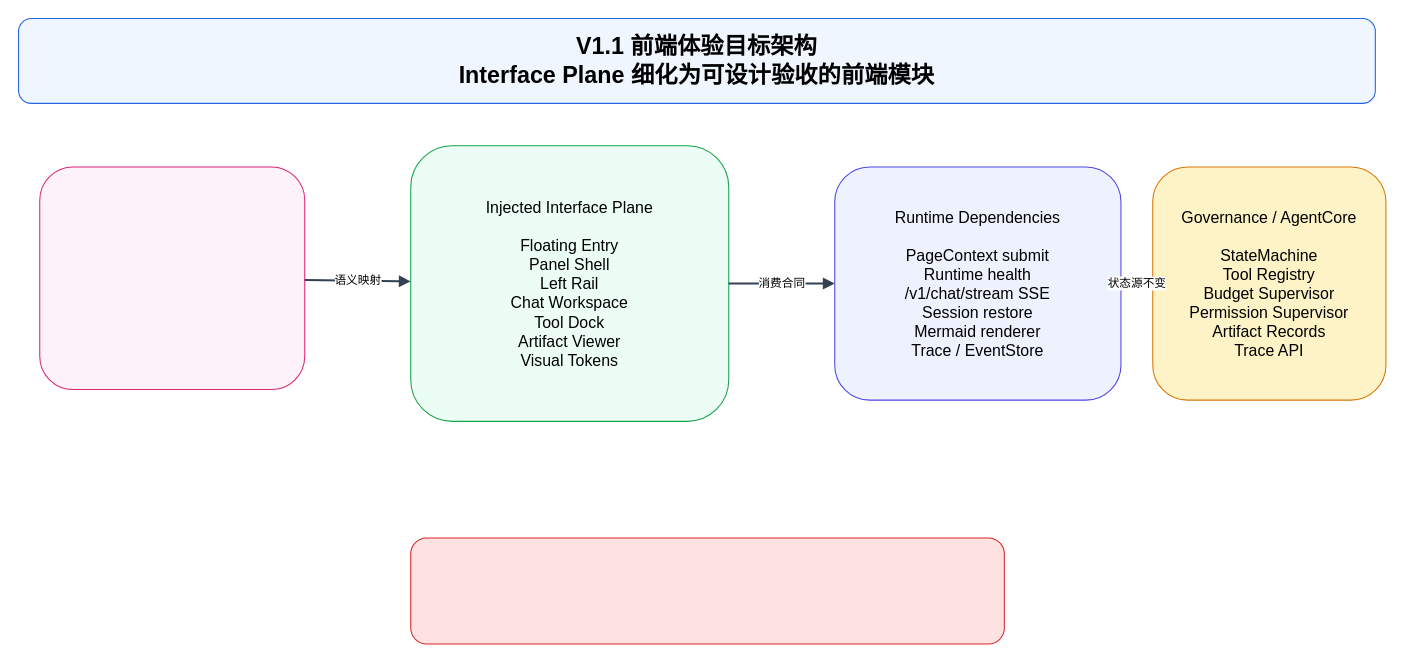
The diagram is 1404 pixels wide and 662 high, and some of its shapes have lost their labels. The shapes that lost their labels are listed below. From the top down, each one's centre as x and y in pixels, then its label:
At (172,278): "Figma Prototype Semantics MainLayout MockPage FloatingBall Sidebar ChatArea".
At (707,590): "Debug Side Panel 保留为工程调试 / 兼容入口 不得替代 V1.1 高保真验收".
